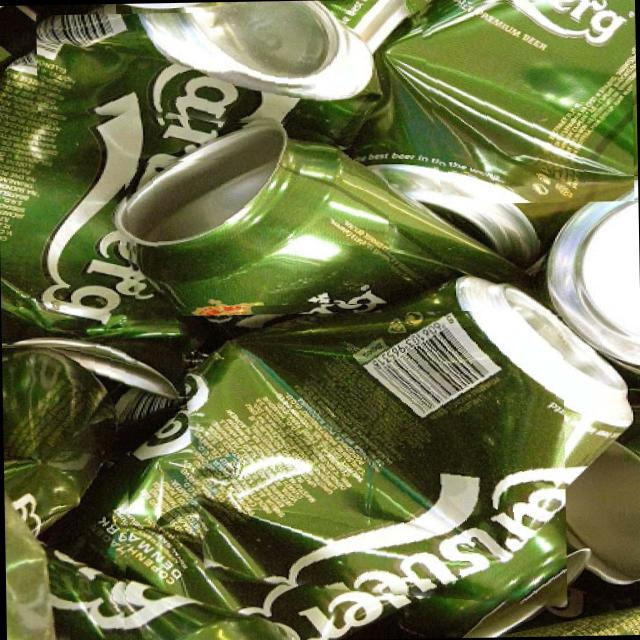Cans: (173, 308, 566, 616), (416, 0, 632, 204), (121, 154, 389, 308), (0, 345, 137, 640), (35, 10, 336, 133)
